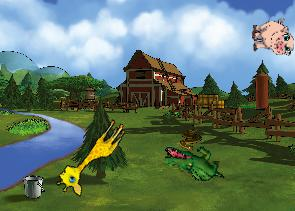crocodile: (163, 144, 224, 182)
giraffe: (52, 110, 129, 201)
pig: (250, 18, 294, 58)
